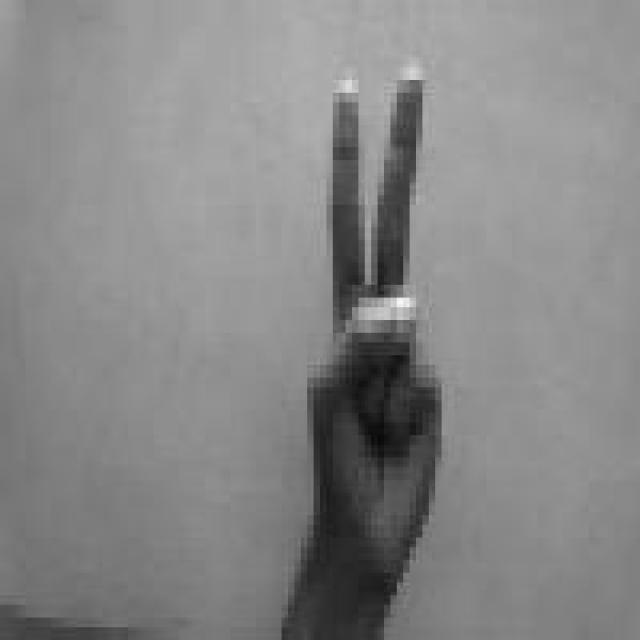V: (291, 62, 461, 568)
